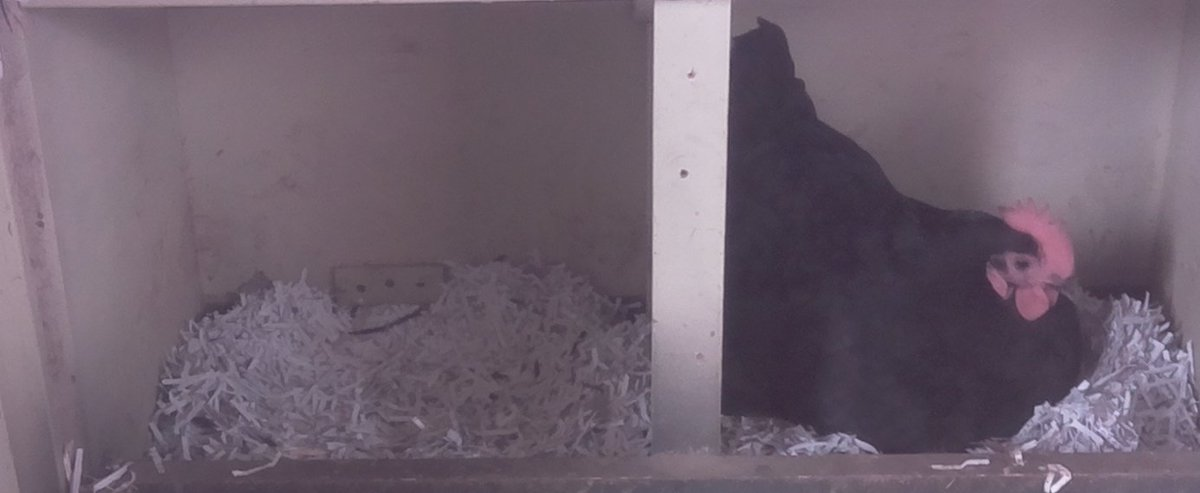hen: (734, 13, 1104, 454)
